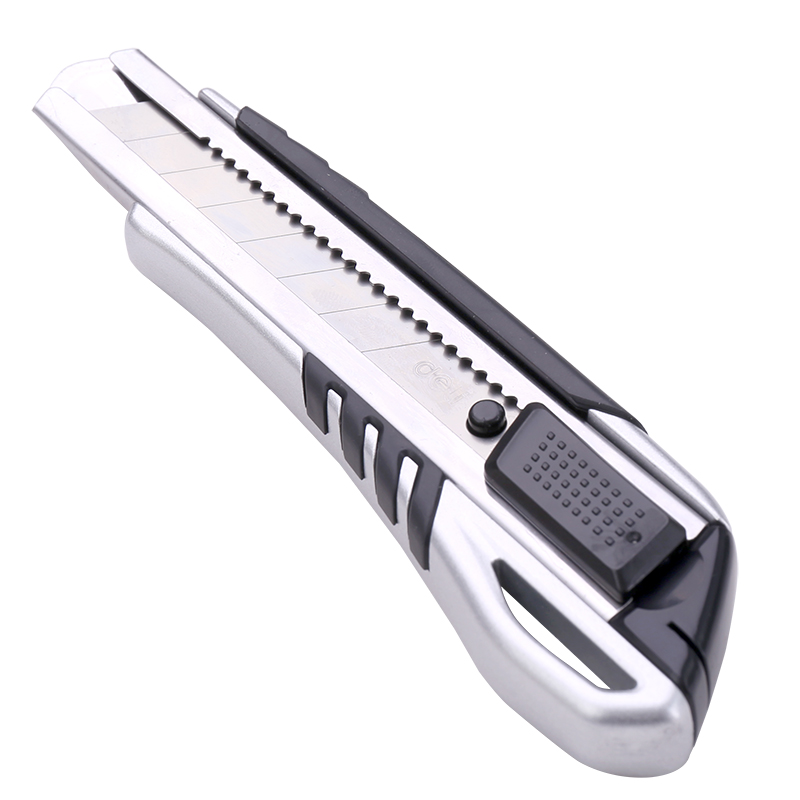cutter: (30, 44, 738, 779)
